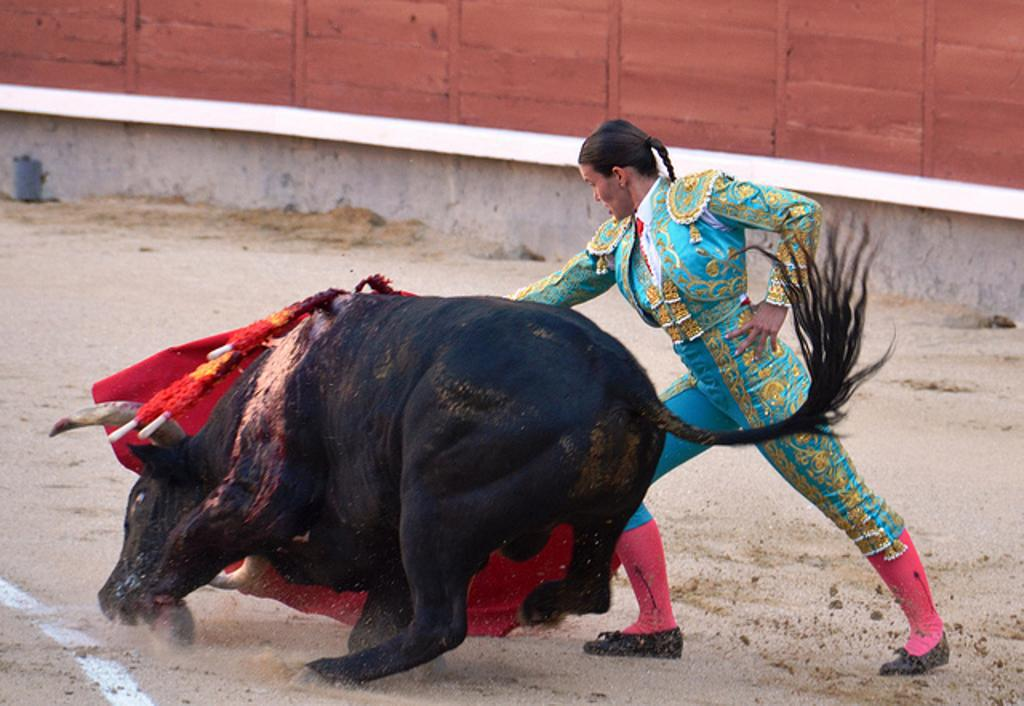face: (580, 164, 633, 220)
